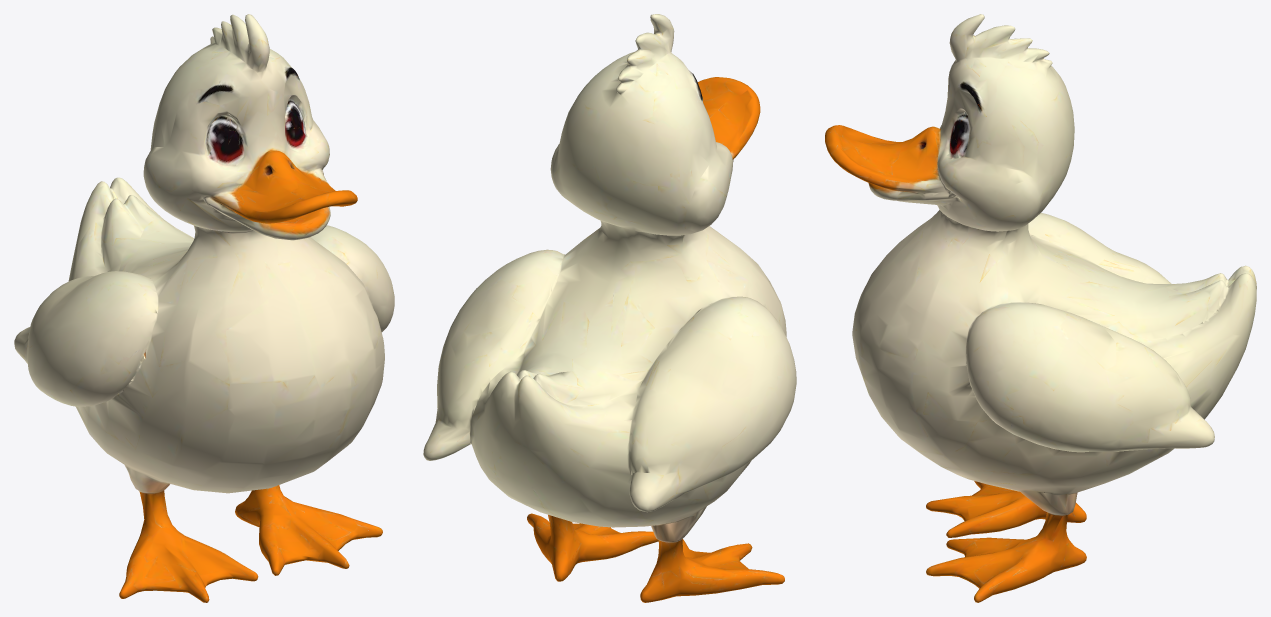
The model's file is duck.glb.
3 views of the same model, side by side, from view 1: azimuth 30°, elevation 25°; view 2: azimuth 150°, elevation 25°; view 3: azimuth 270°, elevation 25° (orthographic). The views are drawn at different scales.
Bounding box in the file's own units: 1.2 × 1.91 × 1.41.
Materials: 1 (1 with a texture image).
